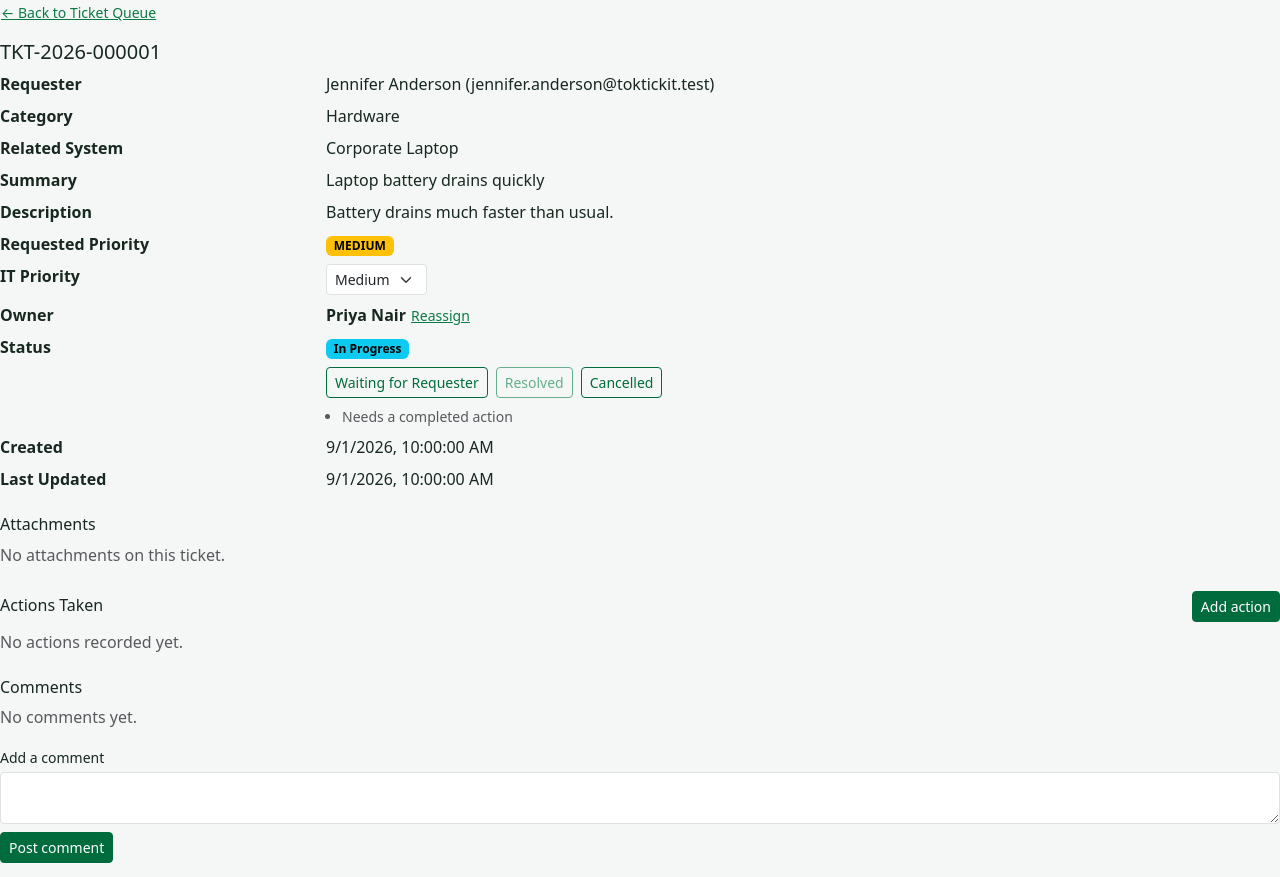
Scenario: TicketWorkflow: status buttons › UI-08: resolution gate › recording a completed action refreshes the gate, so Resolved becomes available without a reload
Expected: the heading "TKT-2026-000001" is shown, [0,38,161,65]
Expected: the button "Resolved" is disabled, [496,367,573,398]
Click the button "Add action".
click(1236, 606)  # box [1192,591,1279,622]
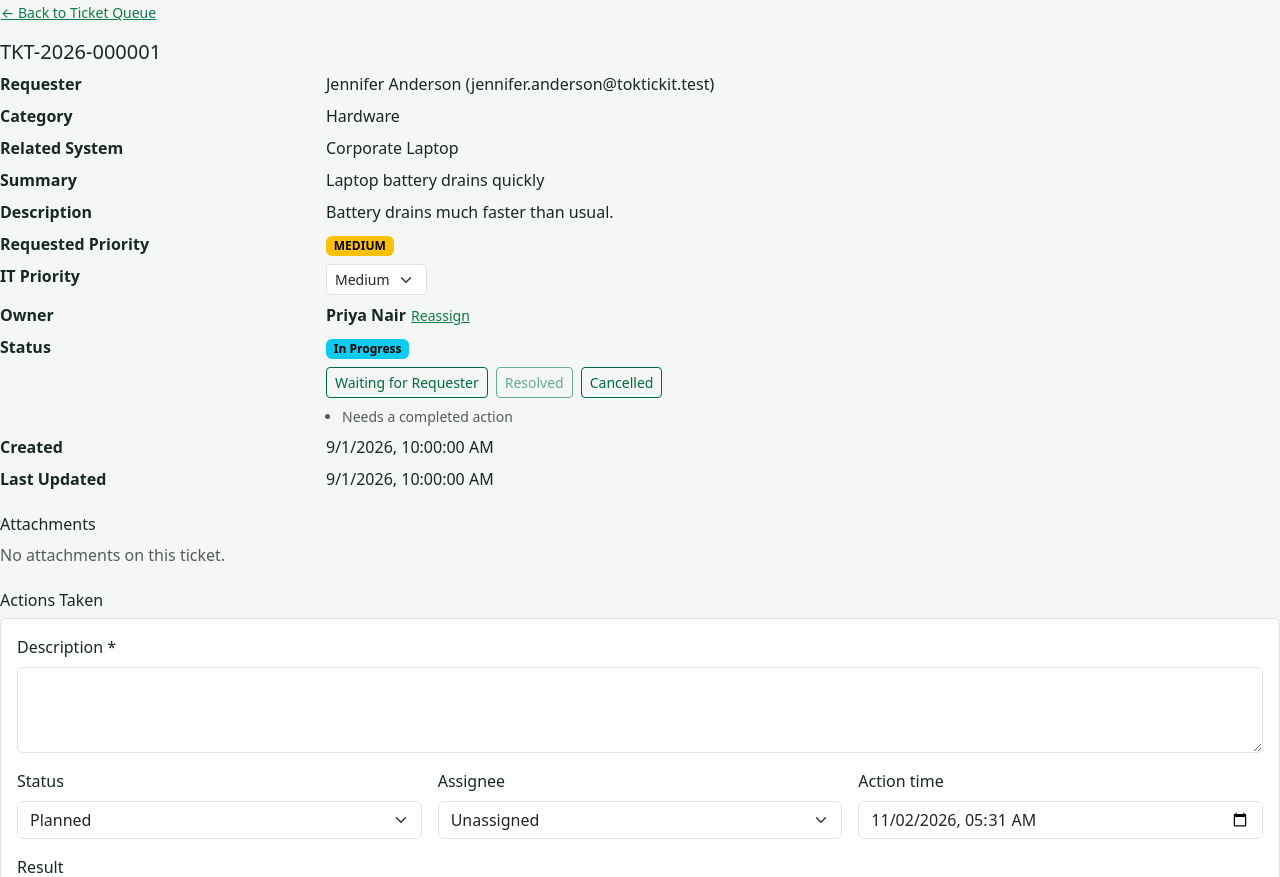
Type "Swapped the battery" into the text box labelled "Description *".
click(640, 710); type("Swapped the battery")  # box [17,667,1263,753]
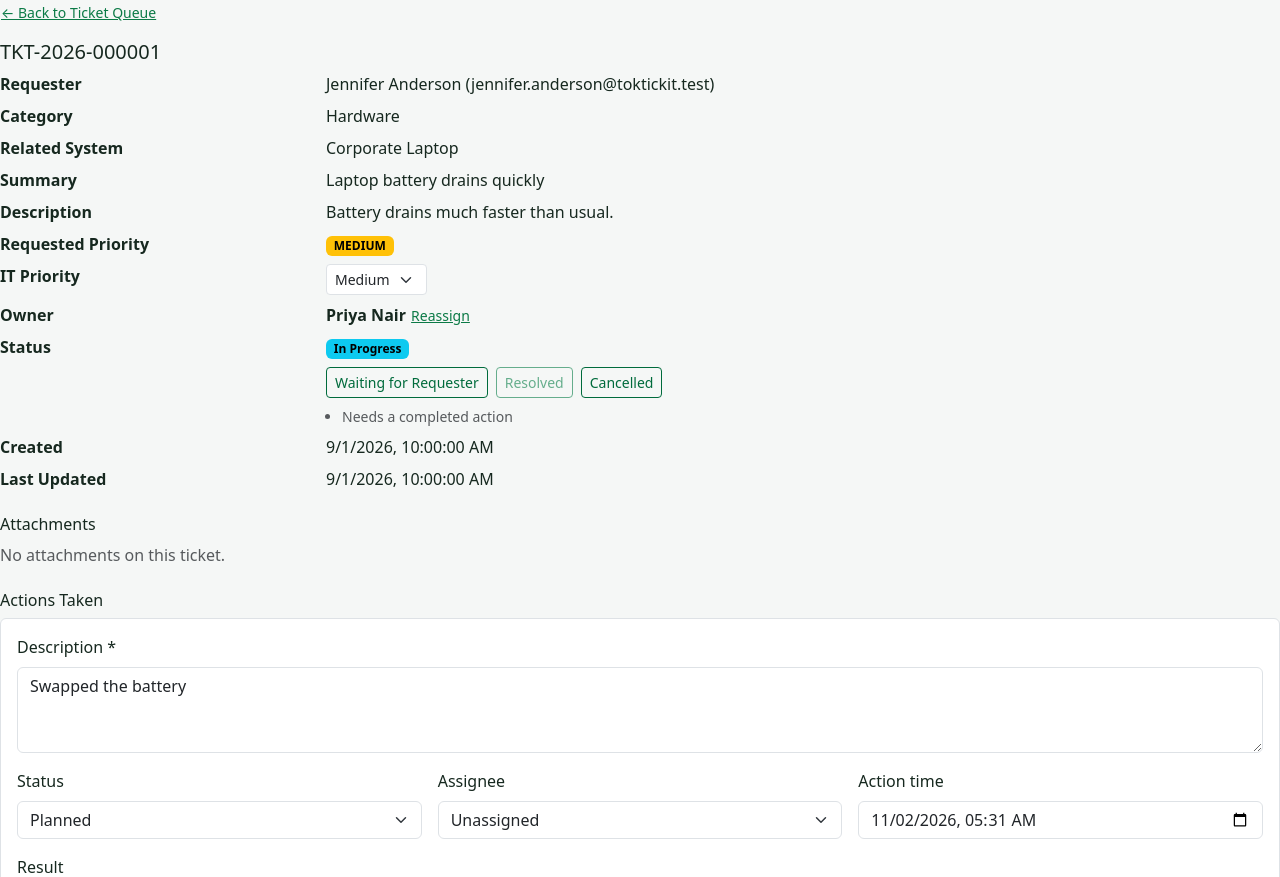
Select "Completed" in the dropdown labelled "Status" at coordinates (219, 820), box [17,801,422,839]
(page scrolled)
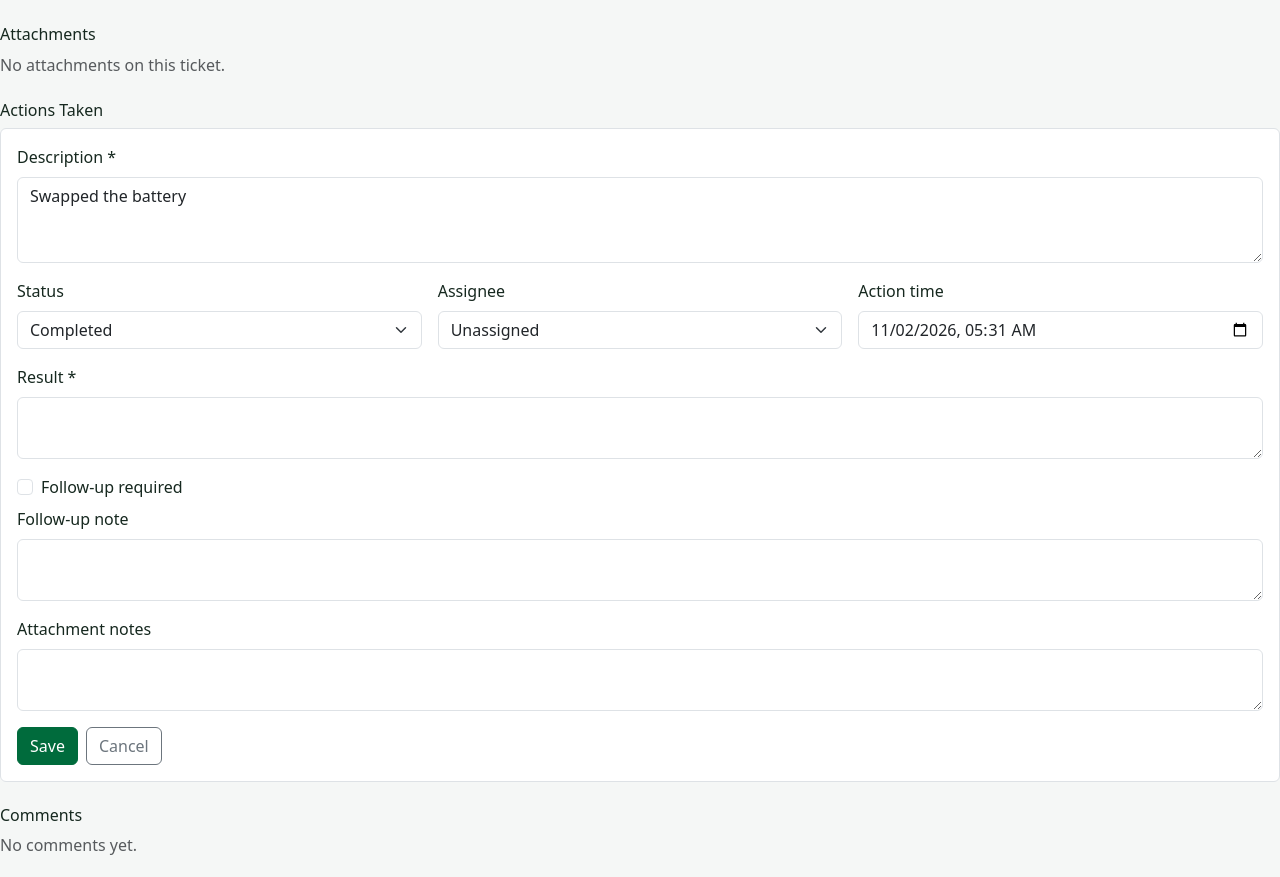
Type "Battery holds charge" into the text box labelled "Result *".
click(640, 428); type("Battery holds charge")  # box [17,397,1263,459]
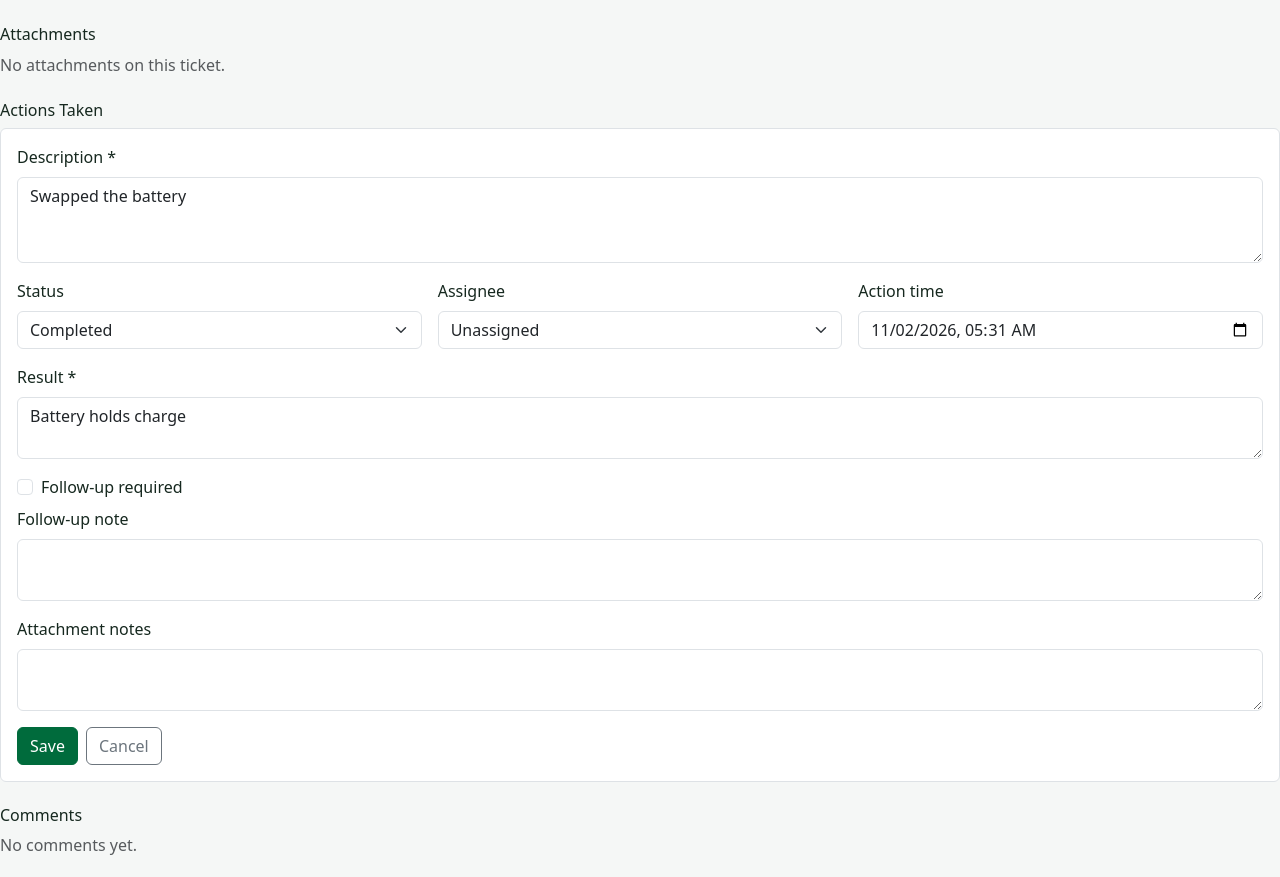
Click the button "Save".
click(47, 746)  # box [17,727,78,765]
(page scrolled)
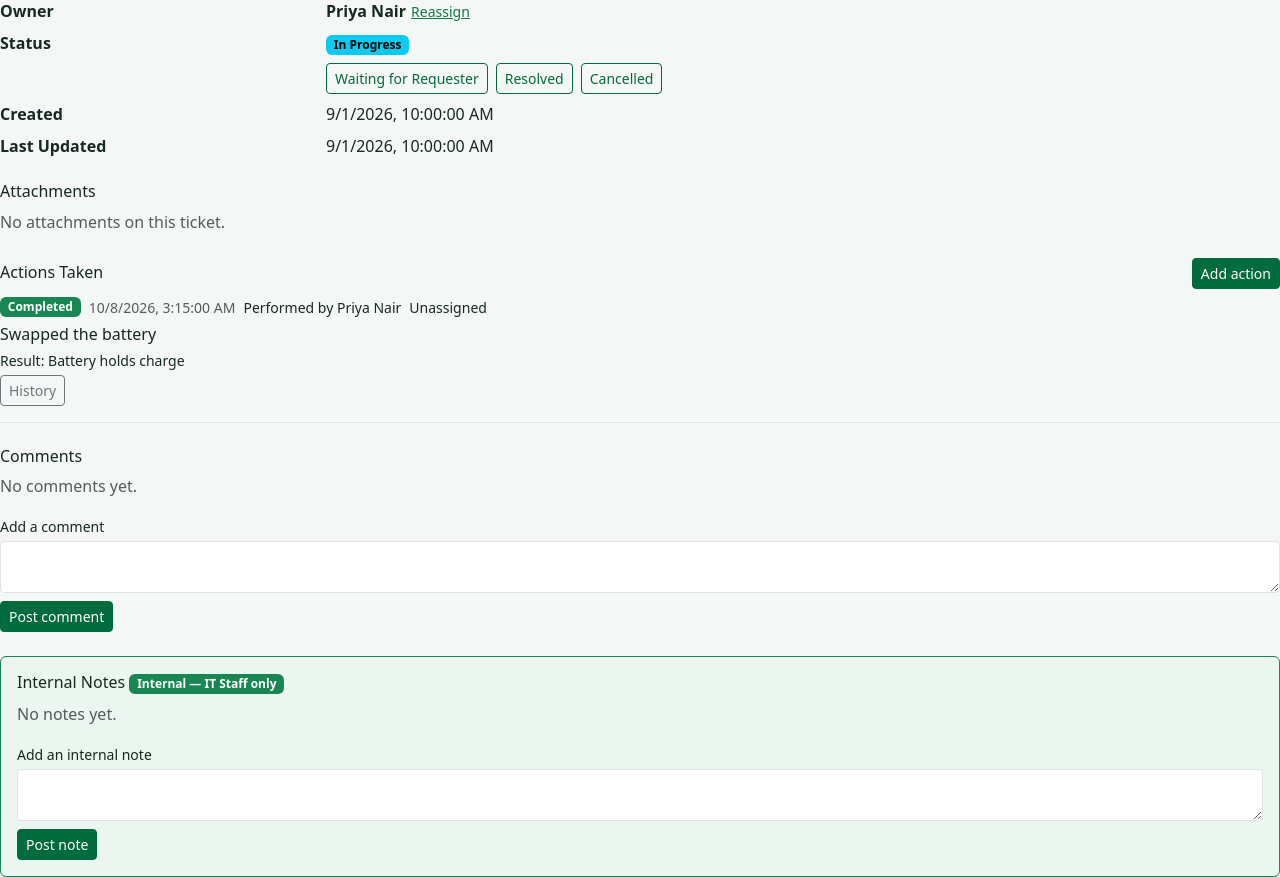
Now the button "Resolved" is enabled, box [496,63,573,94]
